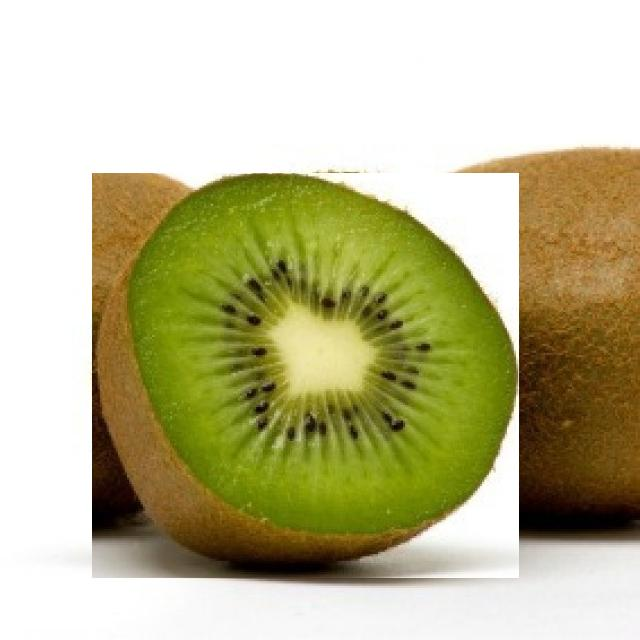Qiwi: (92, 173, 519, 578), (475, 143, 640, 505)
